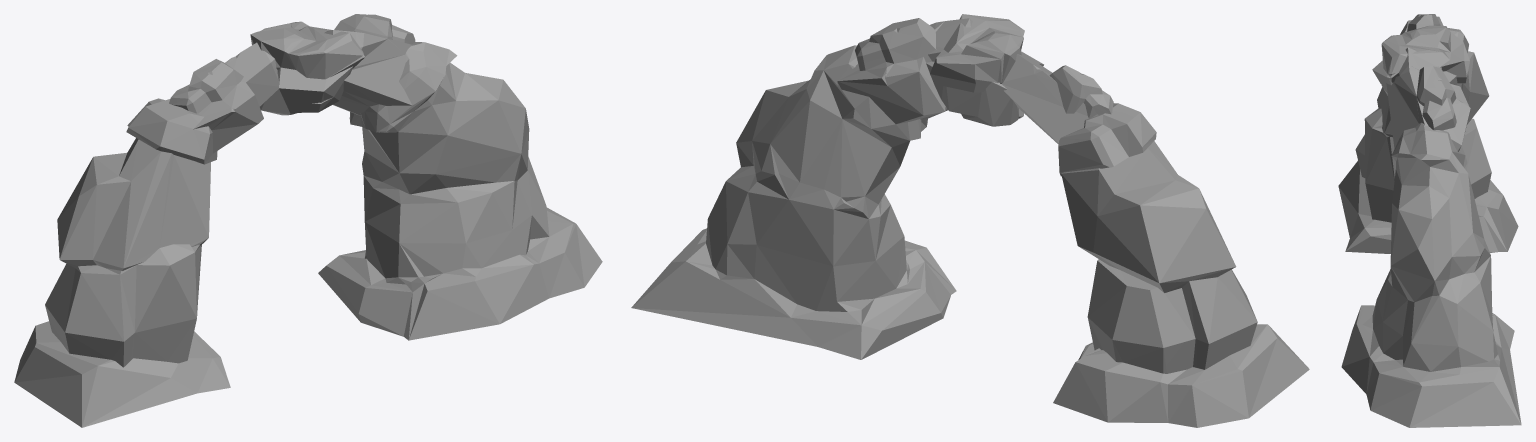
The model's file is rock__rockform_arch_light.glb.
3 views of the same model, side by side, from view 1: azimuth 30°, elevation 25°; view 2: azimuth 150°, elevation 25°; view 3: azimuth 270°, elevation 25° (orthographic). The views are drawn at different scales.
Visible parts, largest first — view 1: rockform.arch.light; view 2: rockform.arch.light; view 3: rockform.arch.light.
Boxes of the visible parts, <box> form: rockform.arch.light: <box>14,14,602,427</box>; rockform.arch.light: <box>631,14,1309,427</box>; rockform.arch.light: <box>1338,14,1521,427</box>.
Size of the model in its own units: 36.79 by 18.56 by 11.68.
1 material, 1 textured.
